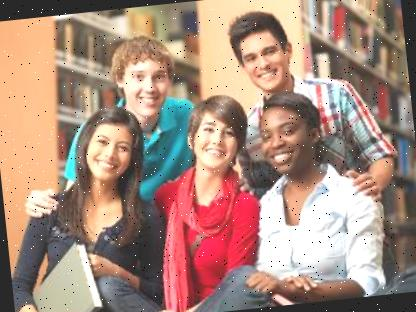person: (6, 99, 169, 312), (245, 79, 395, 306), (138, 86, 275, 312), (209, 0, 359, 104), (94, 21, 199, 138)
